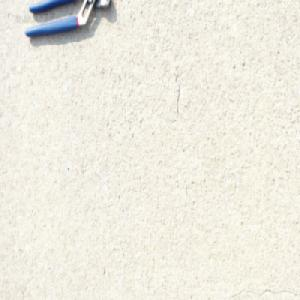Pliers: (23, 0, 112, 39)
